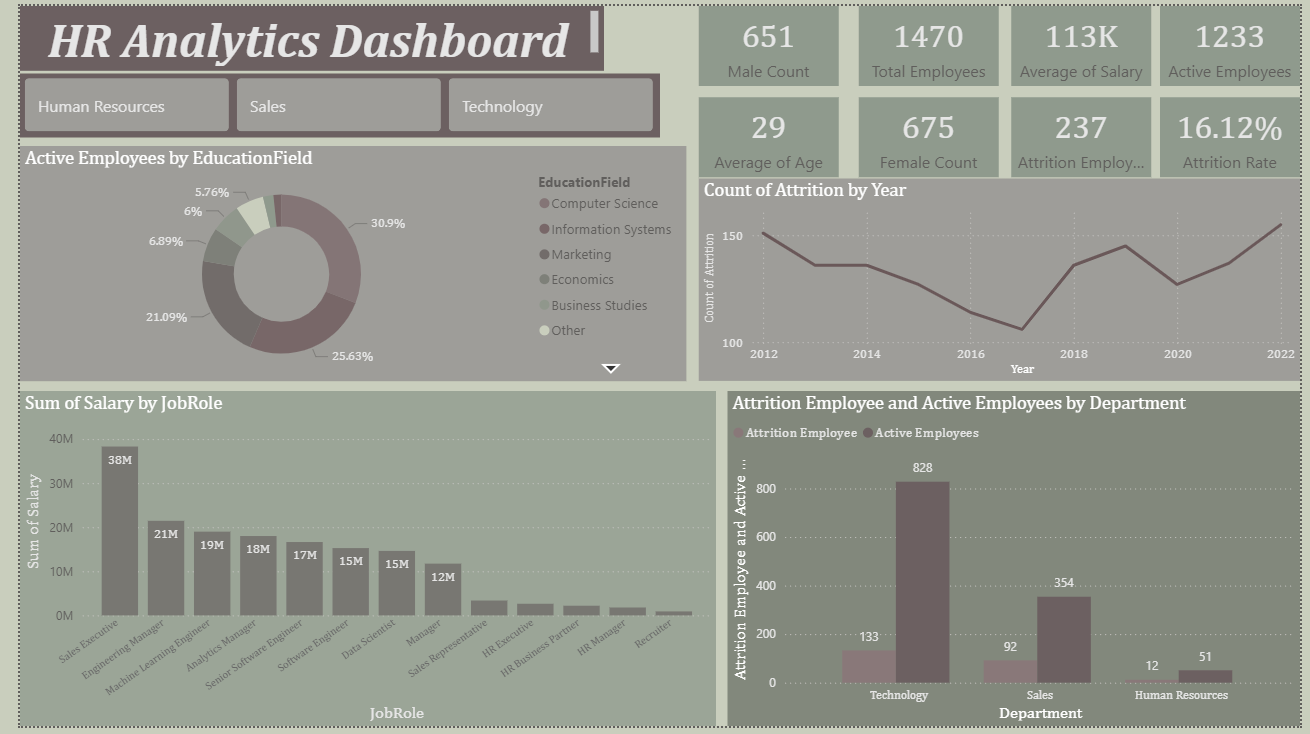

What the dashboard file says about the page in this screenshot:
{"tool":"powerbi","page":{"name":"Page 1","canvas":[1280,720],"ordinal":0},"visuals":[{"type":"card","fields":{"Values":["Avg(Employee.Salary)"]},"box":[991.2,0,140,80],"z":0},{"type":"card","fields":{"Values":["Avg(Employee.Age)"]},"box":[678.8,91.2,140,80],"z":1000},{"type":"card","fields":{"Values":["Employee.Total Employees"]},"box":[838.8,0,140,80],"z":2000},{"type":"card","fields":{"Values":["Employee.Exited Employees"]},"box":[991.2,91.2,140,80],"z":3000},{"type":"card","fields":{"Values":["Employee.Attrition Rate"]},"box":[1140,91.2,140,80],"z":4000},{"type":"clusteredColumnChart","fields":{"Category":["Employee.Department"],"Y":["Employee.Attritionemployee","Employee.Active Employees"]},"box":[707.5,385,572.5,335],"z":5000},{"type":"lineChart","fields":{"Category":["Employee.HireDate.Variation.Date Hierarchy.Year","Employee.HireDate.Variation.Date Hierarchy.Quarter","Employee.HireDate.Variation.Date Hierarchy.Month","Employee.HireDate.Variation.Date Hierarchy.Day"],"Y":["CountNonNull(Employee.Attrition)"]},"box":[678.8,172.5,601.2,202.5],"z":6000},{"type":"card","fields":{"Values":["Employee.Active Employees"]},"box":[1140,0,140,80],"z":7000},{"type":"donutChart","fields":{"Y":["Employee.Active Employees"],"Category":["Employee.EducationField"]},"box":[0,140,666.2,235],"z":8000},{"type":"card","fields":{"Values":["Employee.Female Count"]},"box":[838.8,91.2,140,80],"z":9000},{"type":"card","fields":{"Values":["Employee.male count"]},"box":[678.8,0,140,80],"z":10000},{"type":"advancedSlicerVisual","fields":{"Values":["Employee.Department"]},"box":[0,67.5,640,63.8],"z":11000},{"type":"clusteredColumnChart","fields":{"Category":["Employee.JobRole"],"Y":["Sum(Employee.Salary)"]},"box":[0,385,696.2,335],"z":12000},{"type":"textbox","box":[0,0,583.8,65],"z":13000}]}

Visuals, with their boxes in screenshot pixels (x1, y1, x2, y2), scaled from the page's 1280x720 canvas onto the 1310x734 screenshot:
card - Avg(Employee.Salary): 1014/0/1158/82
card - Avg(Employee.Age): 695/93/838/175
card - Employee.Total Employees: 858/0/1002/82
card - Employee.Exited Employees: 1014/93/1158/175
card - Employee.Attrition Rate: 1167/93/1309/175
clusteredColumnChart - Employee.Department x Employee.Attritionemployee: 724/392/1309/733
lineChart - Employee.HireDate.Variation.Date Hierarchy.Year x Employee.HireDate.Variation.Date Hierarchy.Quarter: 695/176/1309/382
card - Employee.Active Employees: 1167/0/1309/82
donutChart - Employee.Active Employees x Employee.EducationField: 0/143/682/382
card - Employee.Female Count: 858/93/1002/175
card - Employee.male count: 695/0/838/82
advancedSlicerVisual - Employee.Department: 0/69/655/134
clusteredColumnChart - Employee.JobRole x Sum(Employee.Salary): 0/392/713/733
textbox: 0/0/597/66
